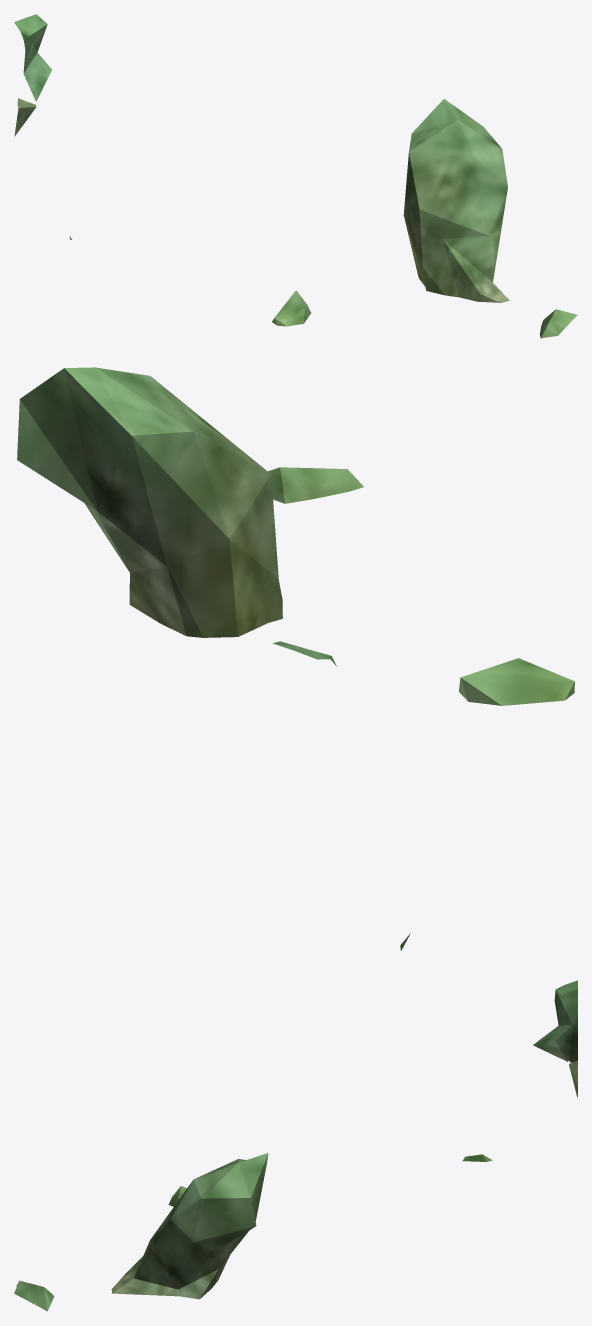
The picture shows the model from 3 angles, top to bottom: view 1: azimuth 30°, elevation 25°; view 2: azimuth 150°, elevation 25°; view 3: azimuth 270°, elevation 25°; orthographic projection. The views are drawn at different scales.
Bounding box in the file's own units: 1.8 × 0.9948 × 2.78.
1 material, 1 textured.
